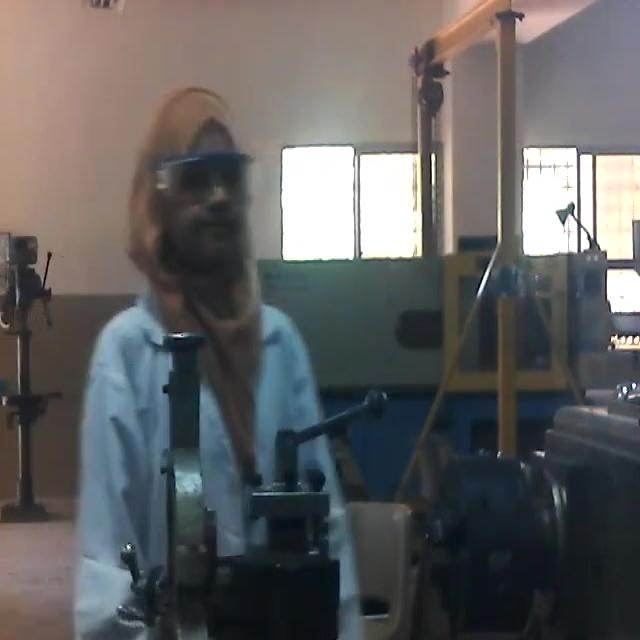googles: (149, 145, 259, 217)
labcoat: (79, 286, 365, 640)
